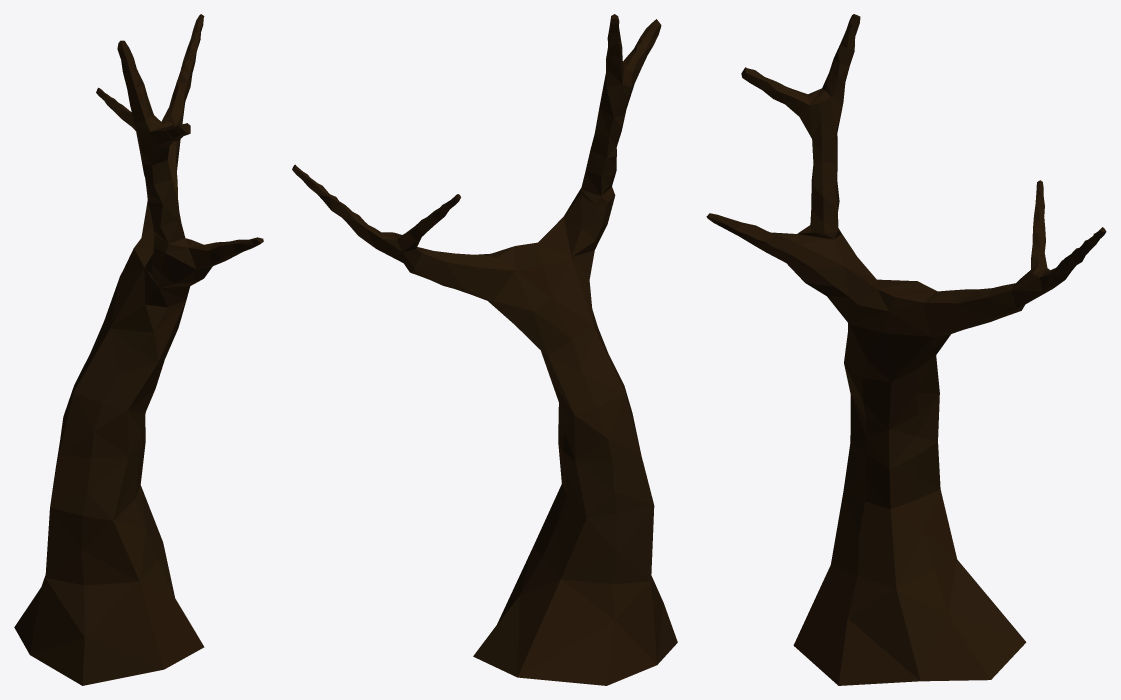
The model's file is common_tree_dead_2.glb.
The picture shows the model from 3 angles, left to right: view 1: azimuth 30°, elevation 25°; view 2: azimuth 150°, elevation 25°; view 3: azimuth 270°, elevation 25°; orthographic projection. The views are drawn at different scales.
Parts seen in each view (by area): view 1: common_tree_2_trunk; view 2: common_tree_2_trunk; view 3: common_tree_2_trunk.
Boxes of the visible parts, <box> form: common_tree_2_trunk: <box>14,14,263,685</box>; common_tree_2_trunk: <box>292,14,677,685</box>; common_tree_2_trunk: <box>706,14,1106,685</box>.
Size of the model in its own units: 1.92 by 4.26 by 2.41.
